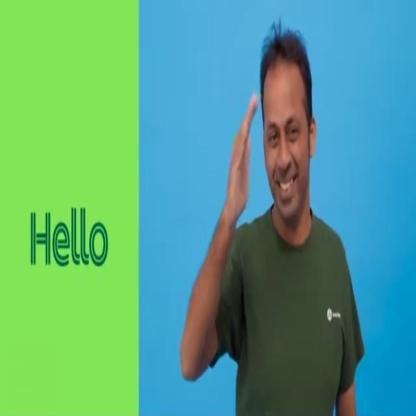Hello: (181, 26, 366, 416)
